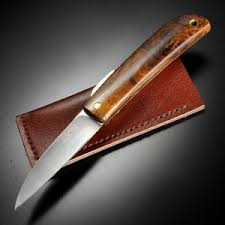knife: (11, 8, 214, 211)
